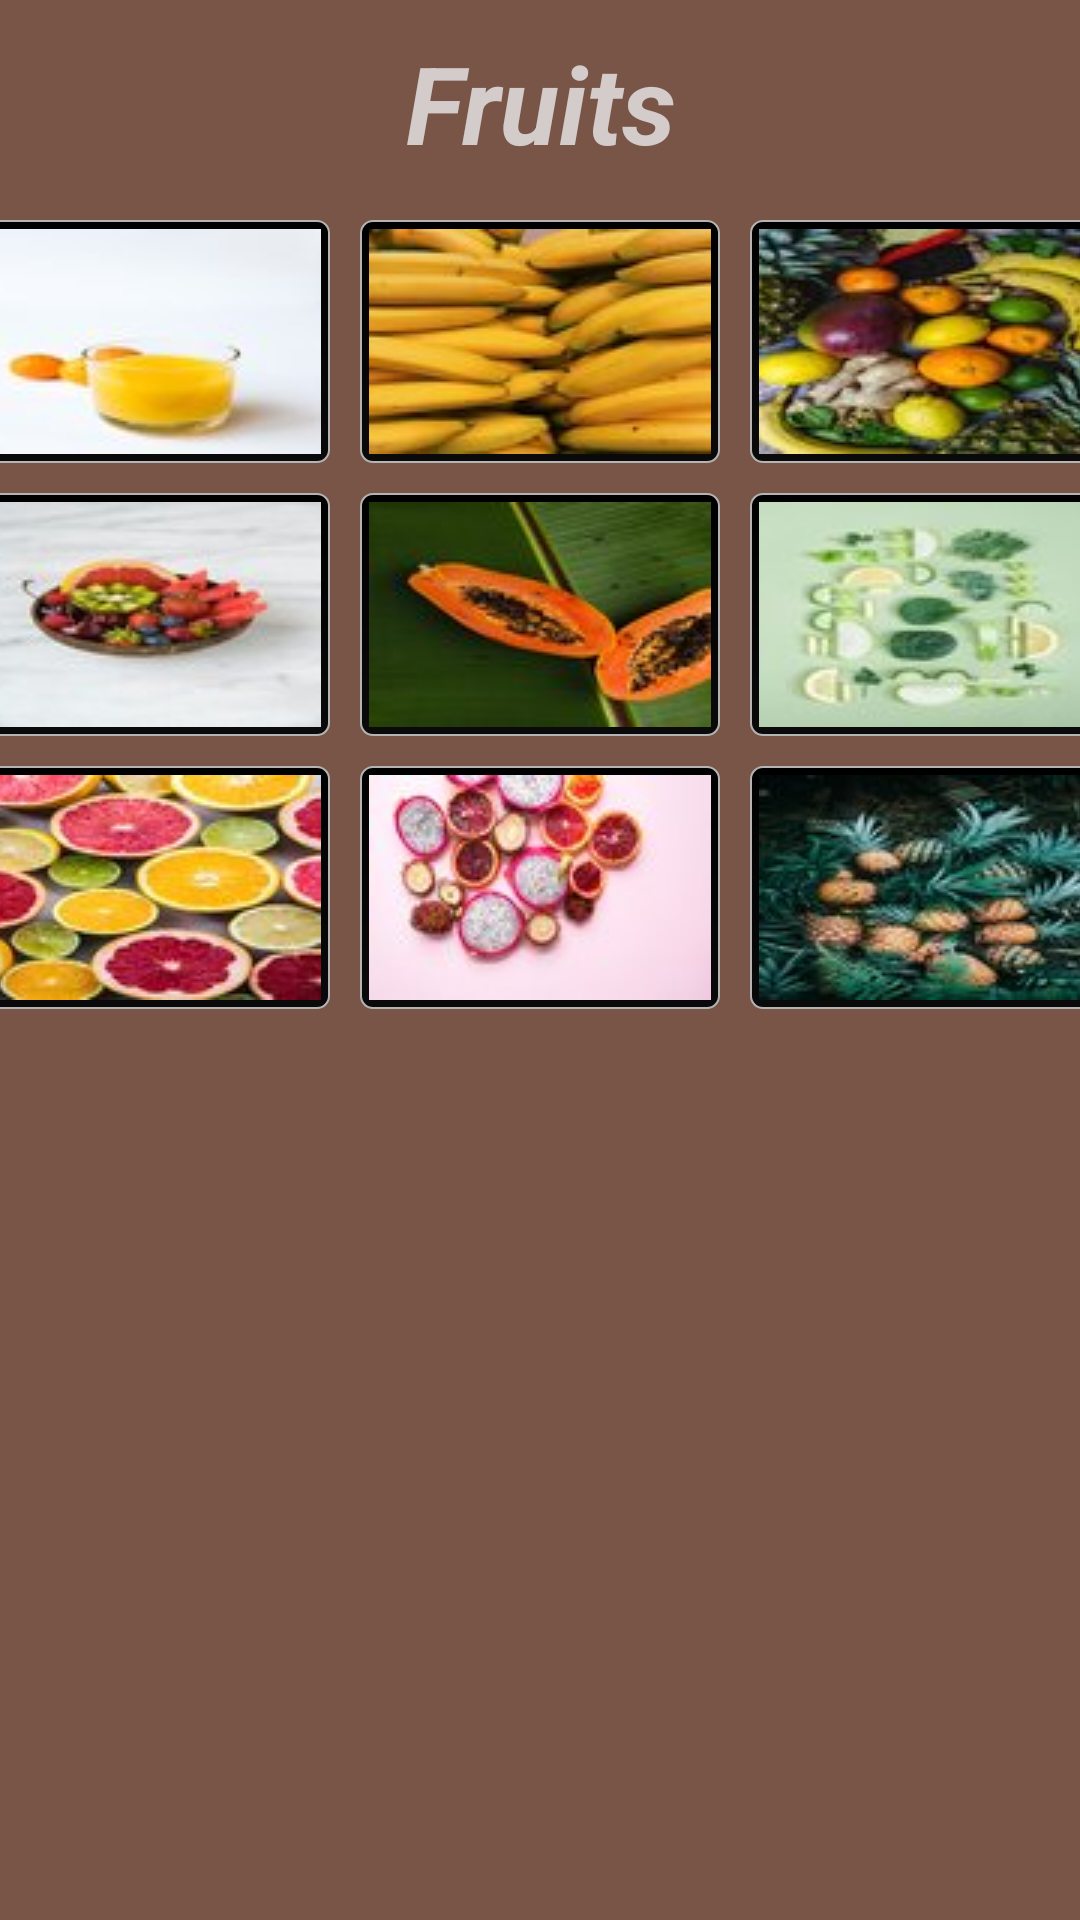

Icon bounding boxes for this 1080w x 1920h phone screenshot, format (x1, y1, x2, y2):
Bananas, mangoes and oranges: (750, 220, 1080, 463)
Peach juice with fruit: (0, 220, 330, 463)
